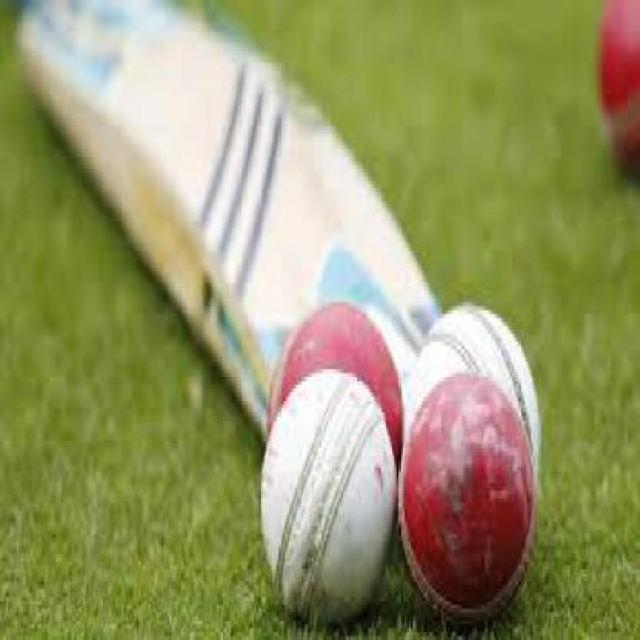ball: (228, 294, 586, 632)
